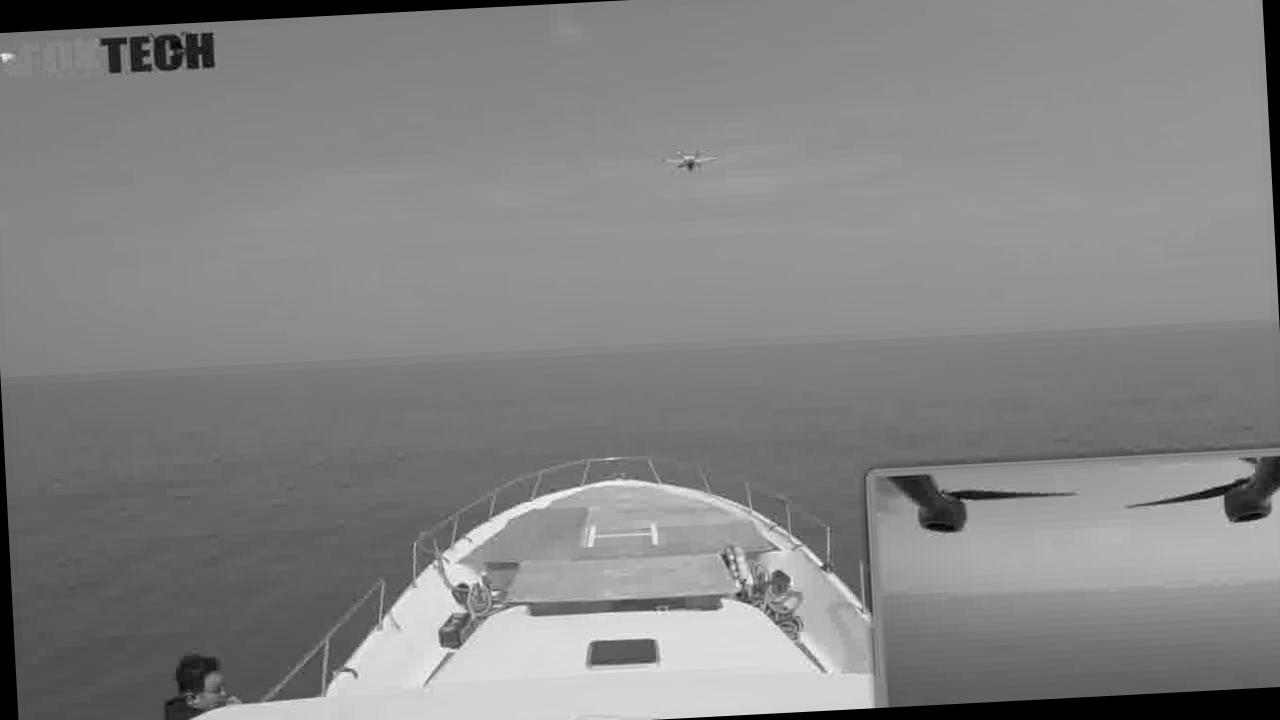drone: (655, 146, 733, 187)
